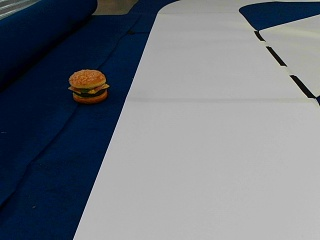burger: (68, 68, 109, 103)
